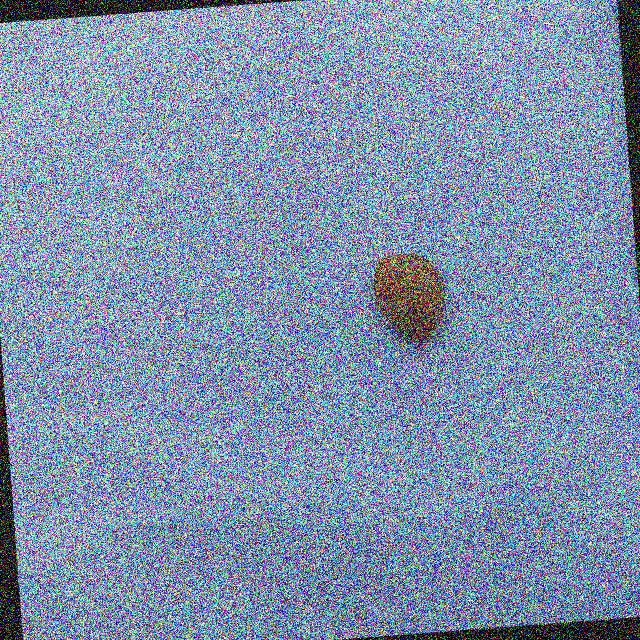grade2: (365, 248, 452, 349)
